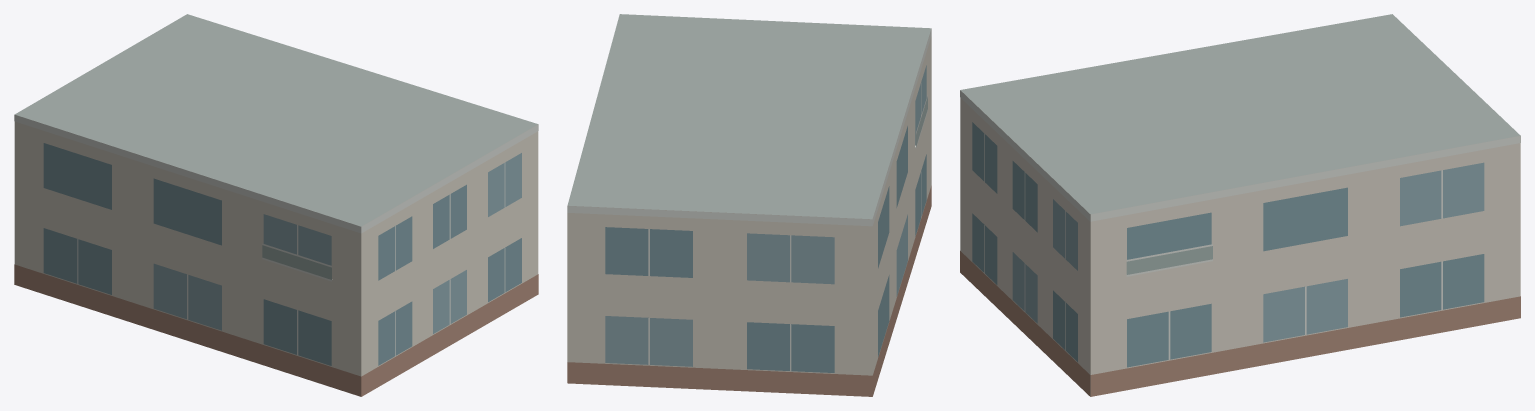
File: survey-upis-32595129.glb
3 views of the same model, side by side, from view 1: azimuth 30°, elevation 25°; view 2: azimuth 150°, elevation 25°; view 3: azimuth 270°, elevation 25° (orthographic). The views are drawn at different scales.
Parts seen in each view (by area): view 1: survey-upis-32595129.tmp; view 2: survey-upis-32595129.tmp; view 3: survey-upis-32595129.tmp.
Boxes of the visible parts, x1,y1,x2,y2 form: survey-upis-32595129.tmp: (14,14,538,396); survey-upis-32595129.tmp: (567,14,931,396); survey-upis-32595129.tmp: (960,14,1520,396).
Bounding box in the file's own units: 14.38 × 6.1 × 17.
